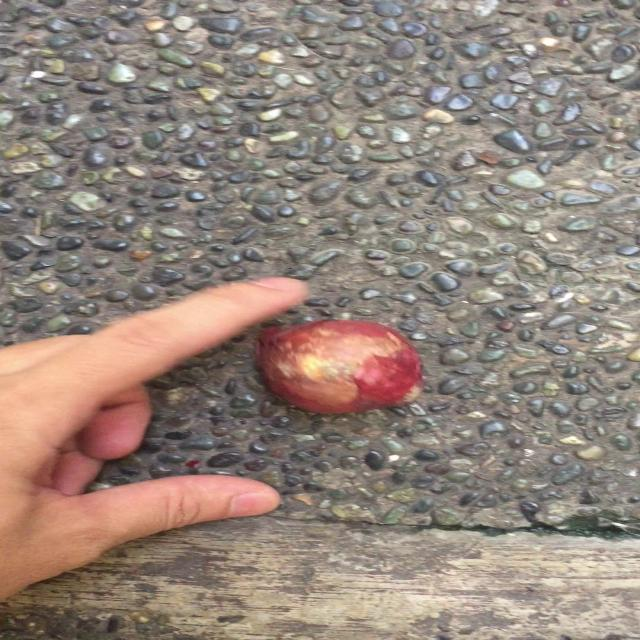Onion: (256, 320, 421, 414)
